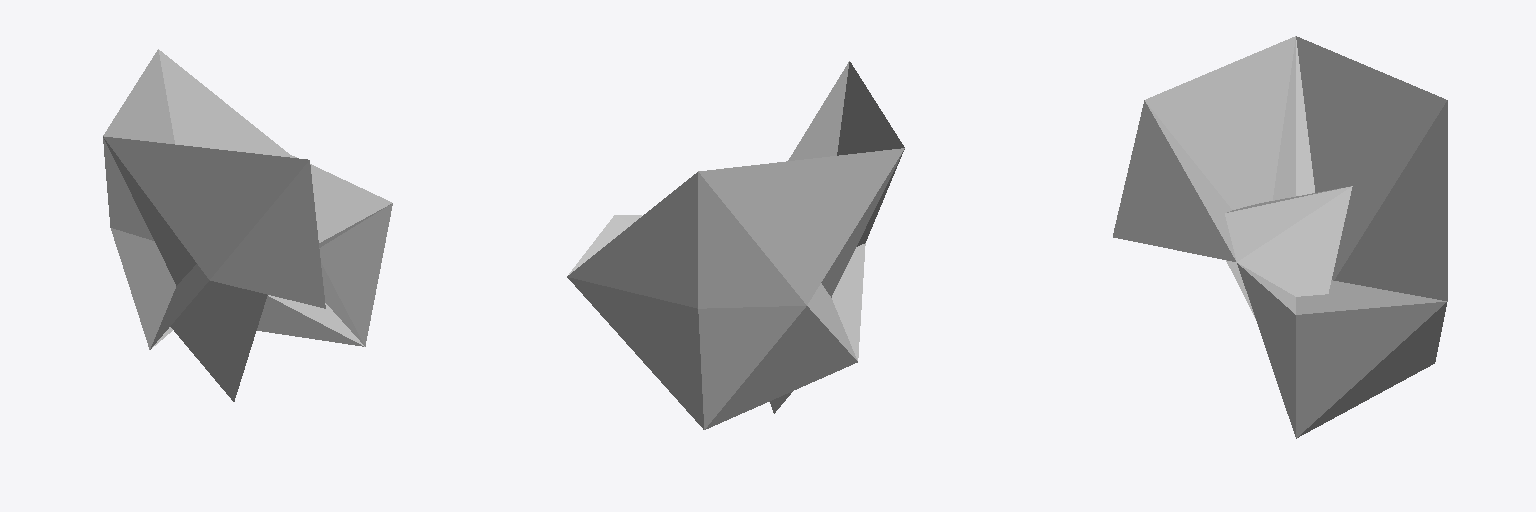
The model's file is jagged.obj.
3 views of the same model, side by side, from view 1: azimuth 30°, elevation 25°; view 2: azimuth 150°, elevation 25°; view 3: azimuth 270°, elevation 25° (orthographic).
Parts seen in each view (by area): view 1: Platonic; view 2: Platonic; view 3: Platonic.
Part boxes in pixels (left/top/right/bottom): Platonic: left=103, top=49, right=392, bottom=401; Platonic: left=567, top=61, right=904, bottom=429; Platonic: left=1113, top=36, right=1447, bottom=438.
Bounding box in the file's own units: 29.38 × 28.87 × 29.38.